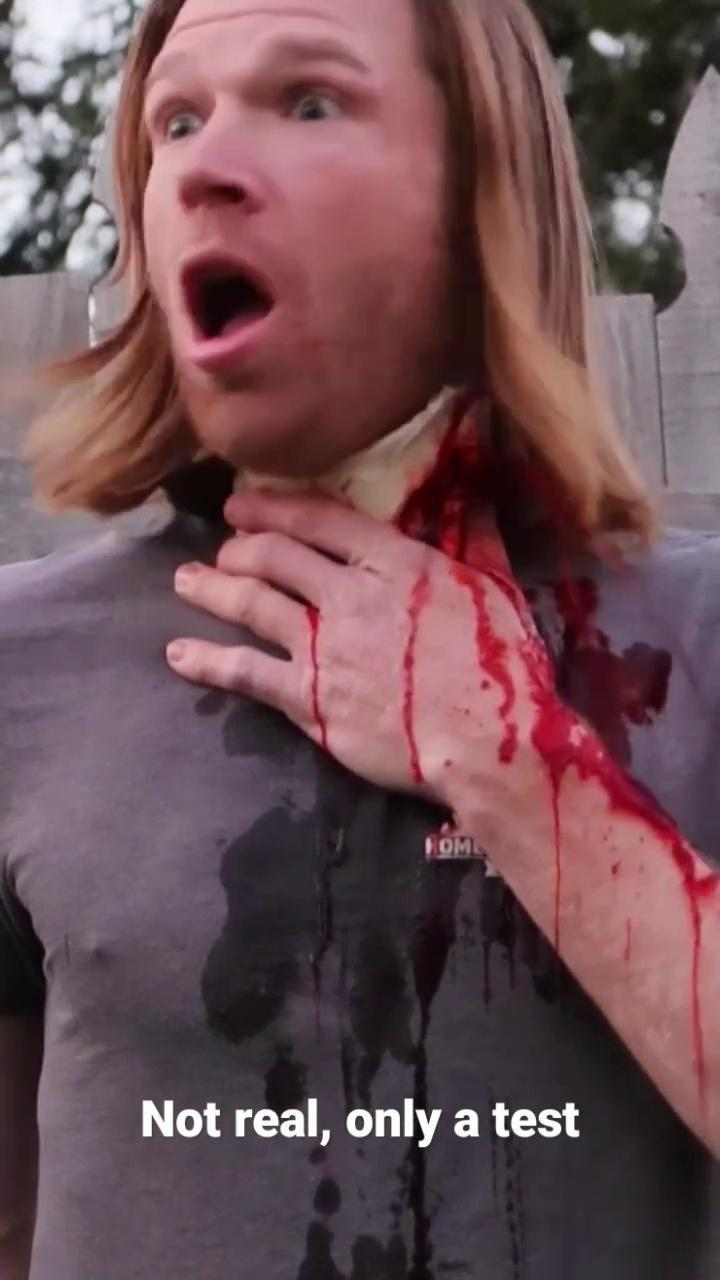Fire: (466, 573, 719, 1156), (531, 578, 669, 766), (396, 393, 511, 582), (402, 570, 429, 786), (306, 605, 332, 754)
